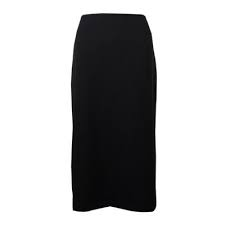S_skirt: (59, 10, 174, 217)
